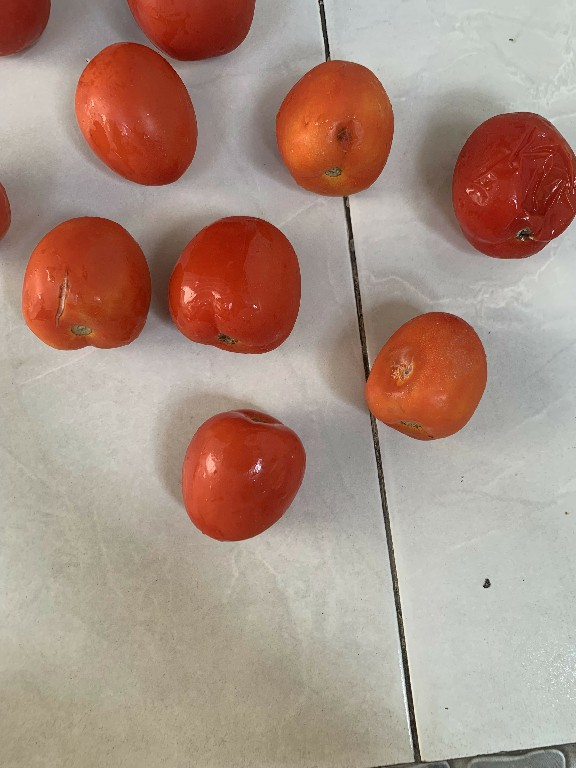NG: (444, 104, 575, 265), (15, 214, 152, 357), (360, 308, 492, 447), (270, 58, 398, 201)
OK: (161, 212, 305, 356), (74, 38, 207, 184), (180, 401, 308, 547), (123, 0, 260, 58)
